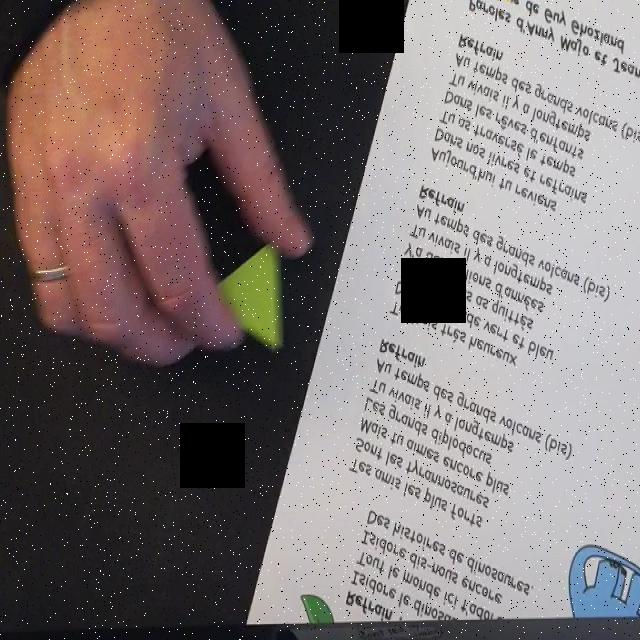triangle: (202, 233, 286, 352)
